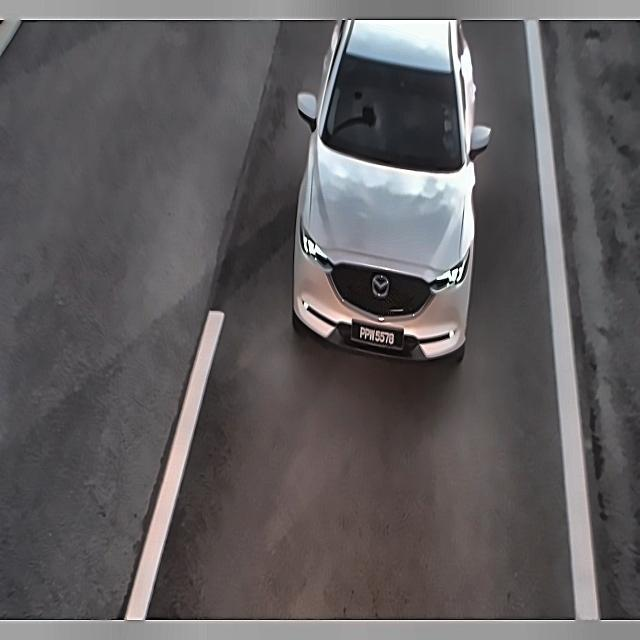car: (349, 316, 406, 362)
